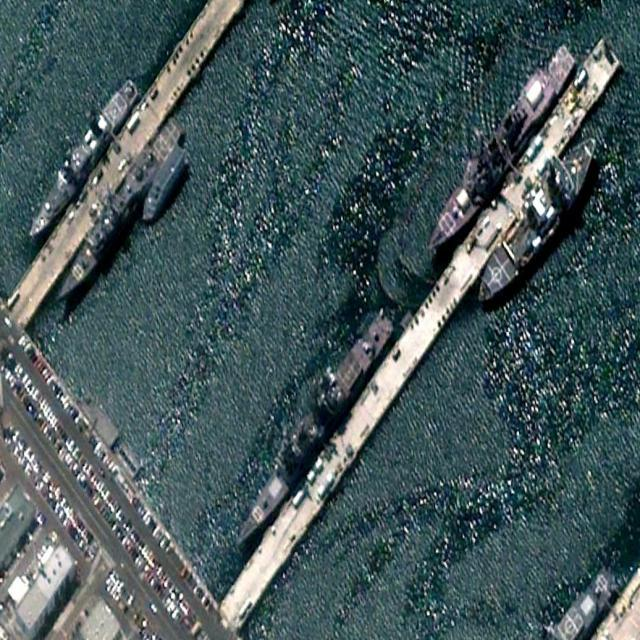Cruiser: (225, 300, 397, 554)
Destroyer: (419, 36, 581, 263)
Frigate: (49, 110, 188, 314), (21, 71, 142, 247)
Other Ship: (464, 122, 608, 318)
Other Warship: (138, 145, 191, 230)
